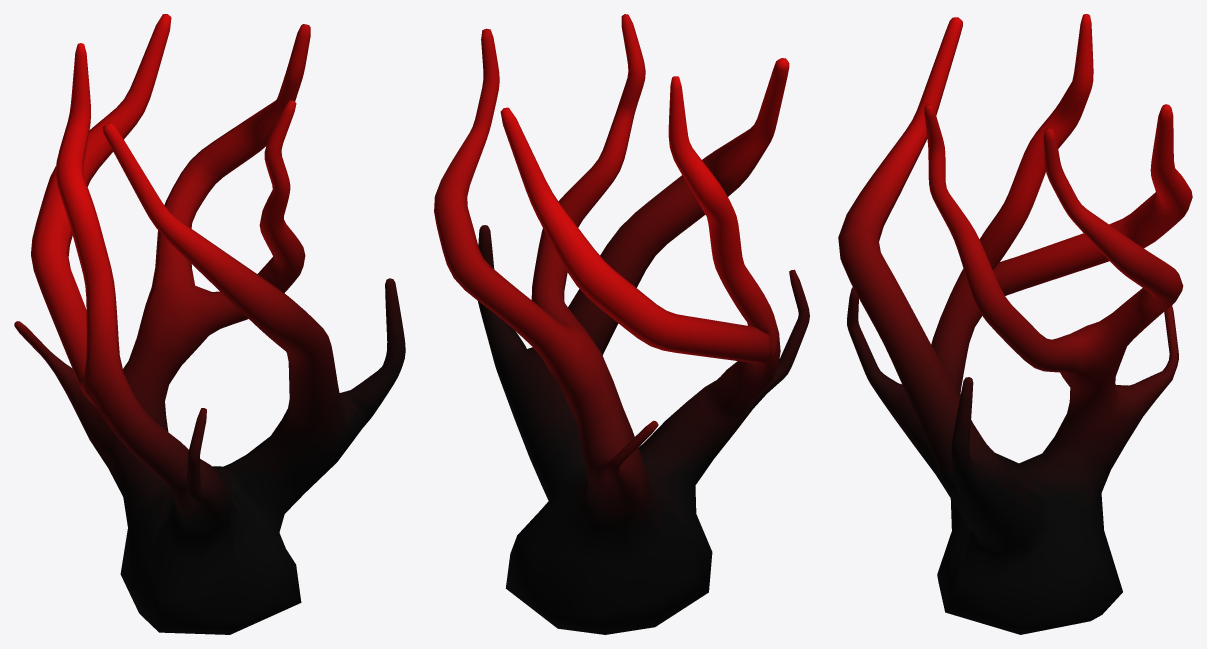
Rendered from TreeNew2.fbx.
The picture shows the model from 3 angles, left to right: view 1: azimuth 30°, elevation 25°; view 2: azimuth 150°, elevation 25°; view 3: azimuth 270°, elevation 25°; orthographic projection. The views are drawn at different scales.
Parts seen in each view (by area): view 1: Cube.005; view 2: Cube.005; view 3: Cube.005.
Part boxes in pixels (bbox=[...]): Cube.005: bbox=[14, 14, 405, 634]; Cube.005: bbox=[434, 14, 809, 634]; Cube.005: bbox=[838, 14, 1192, 634].
Bounding box in the file's own units: 29.56 × 52.83 × 30.37.
